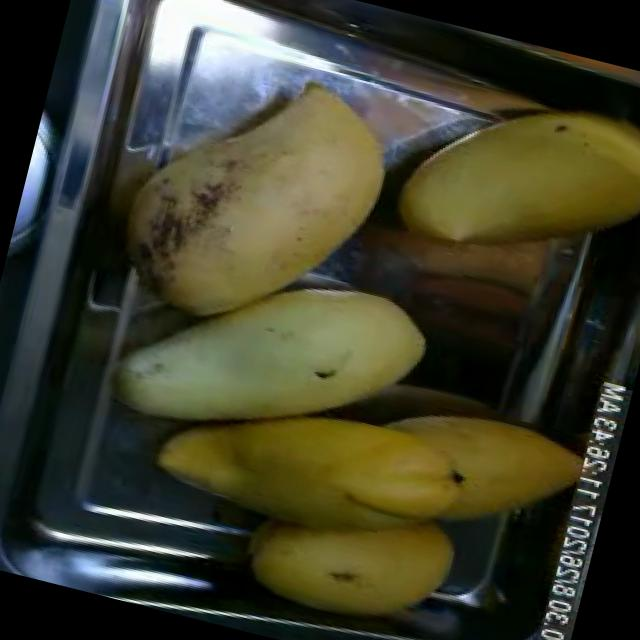fruit: (116, 331, 509, 640), (111, 38, 419, 377), (93, 217, 454, 496), (370, 50, 640, 311)
